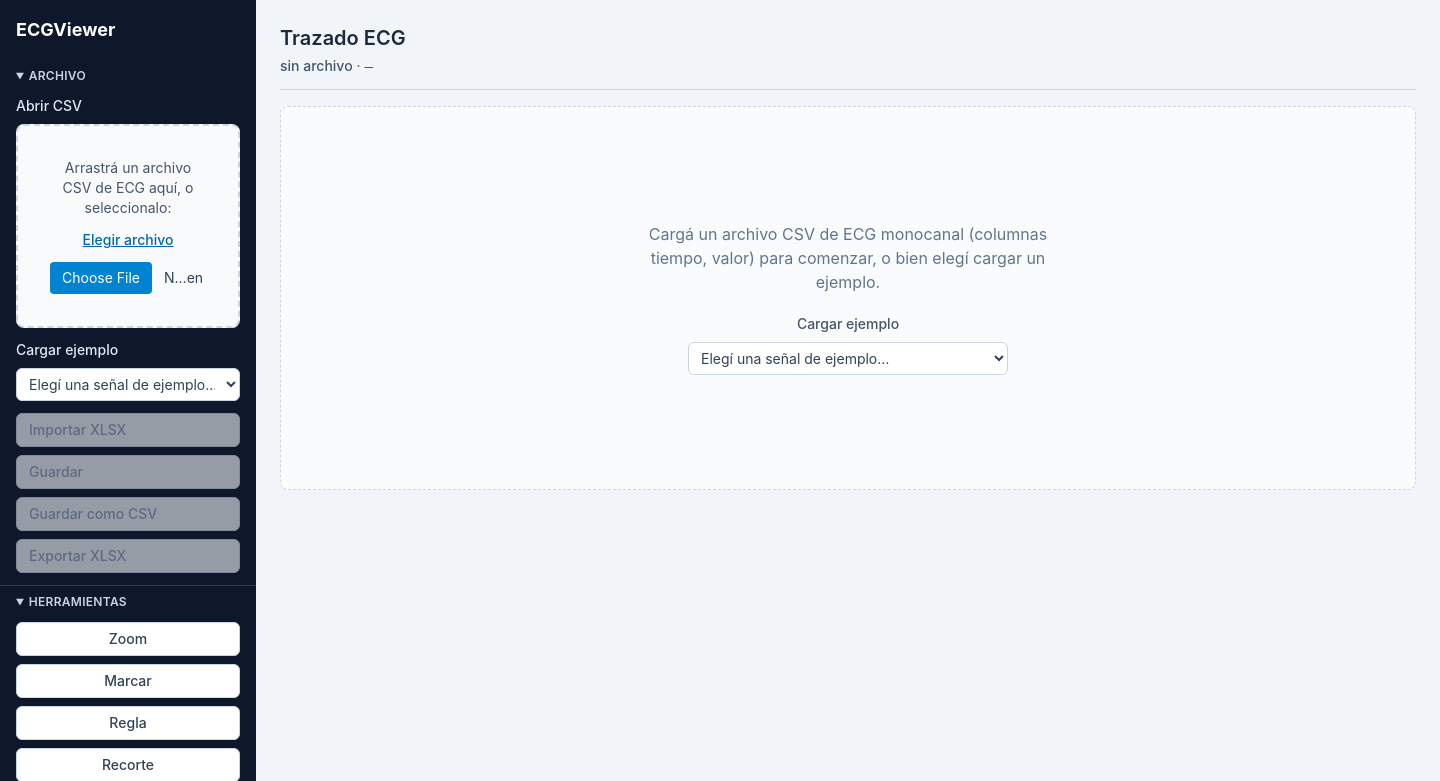
Test case: App — panel principal: estado vacío y estado con señal (FEAT-009, Block 6) › un fallo al cargar un ejemplo desde el estado vacío muestra UNA sola alerta (la del sidebar)
Select "ECG_20_Seg_FILTRADO" in the 1st dropdown named "Cargar ejemplo" at x=848, y=358, box [688, 342, 1008, 374]
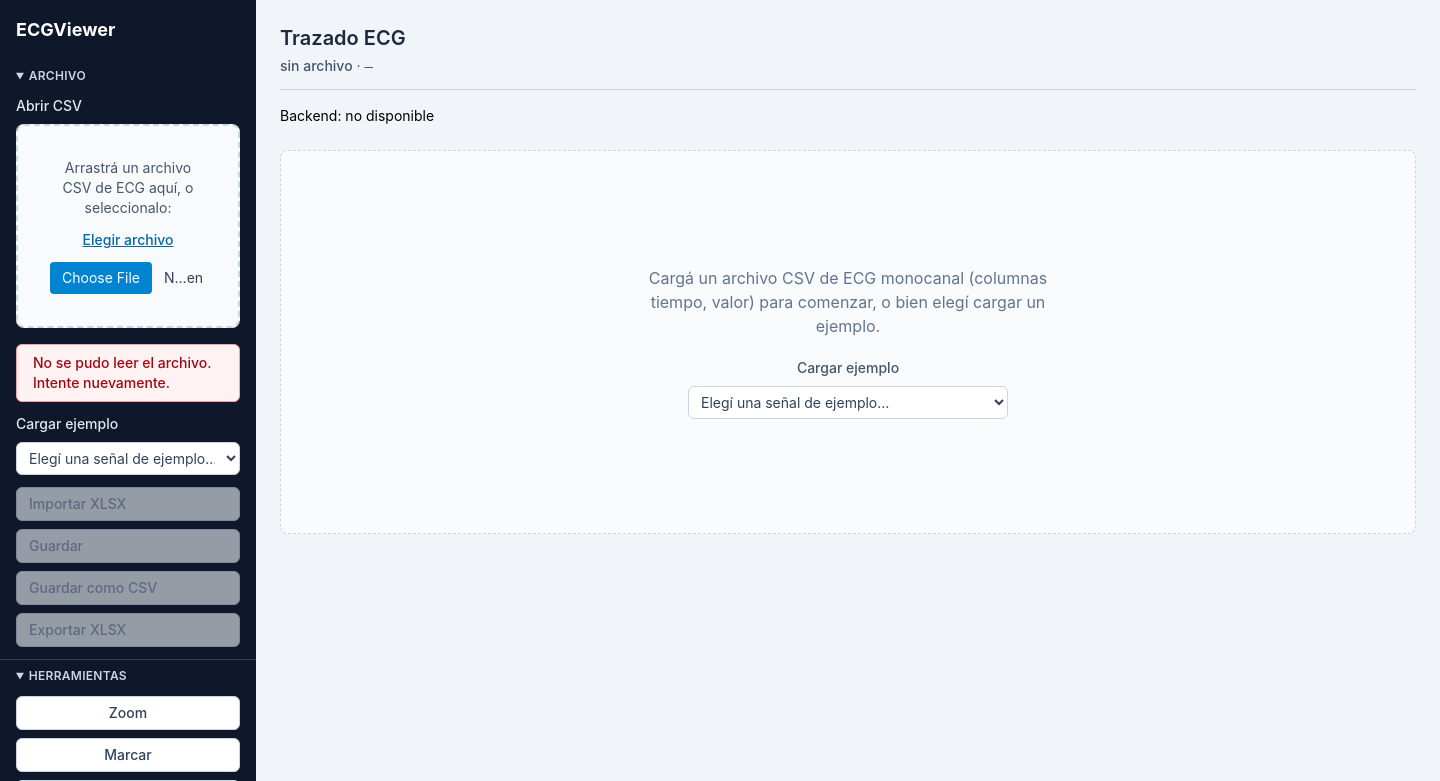
Now the number of messages is 1, box [16, 344, 240, 402]
Now the message reads "No se pudo leer el archivo. Intente nuevamente.", box [33, 354, 211, 391]
